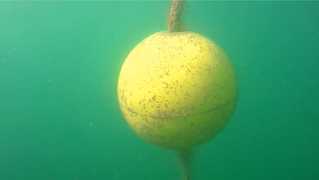buoy: (116, 29, 239, 149)
